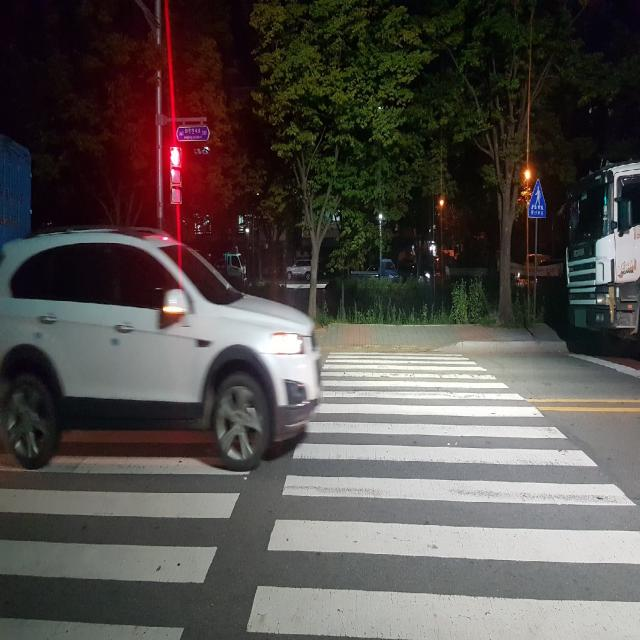빨간불: (171, 147, 182, 207)
횡단보도: (0, 349, 639, 640)
